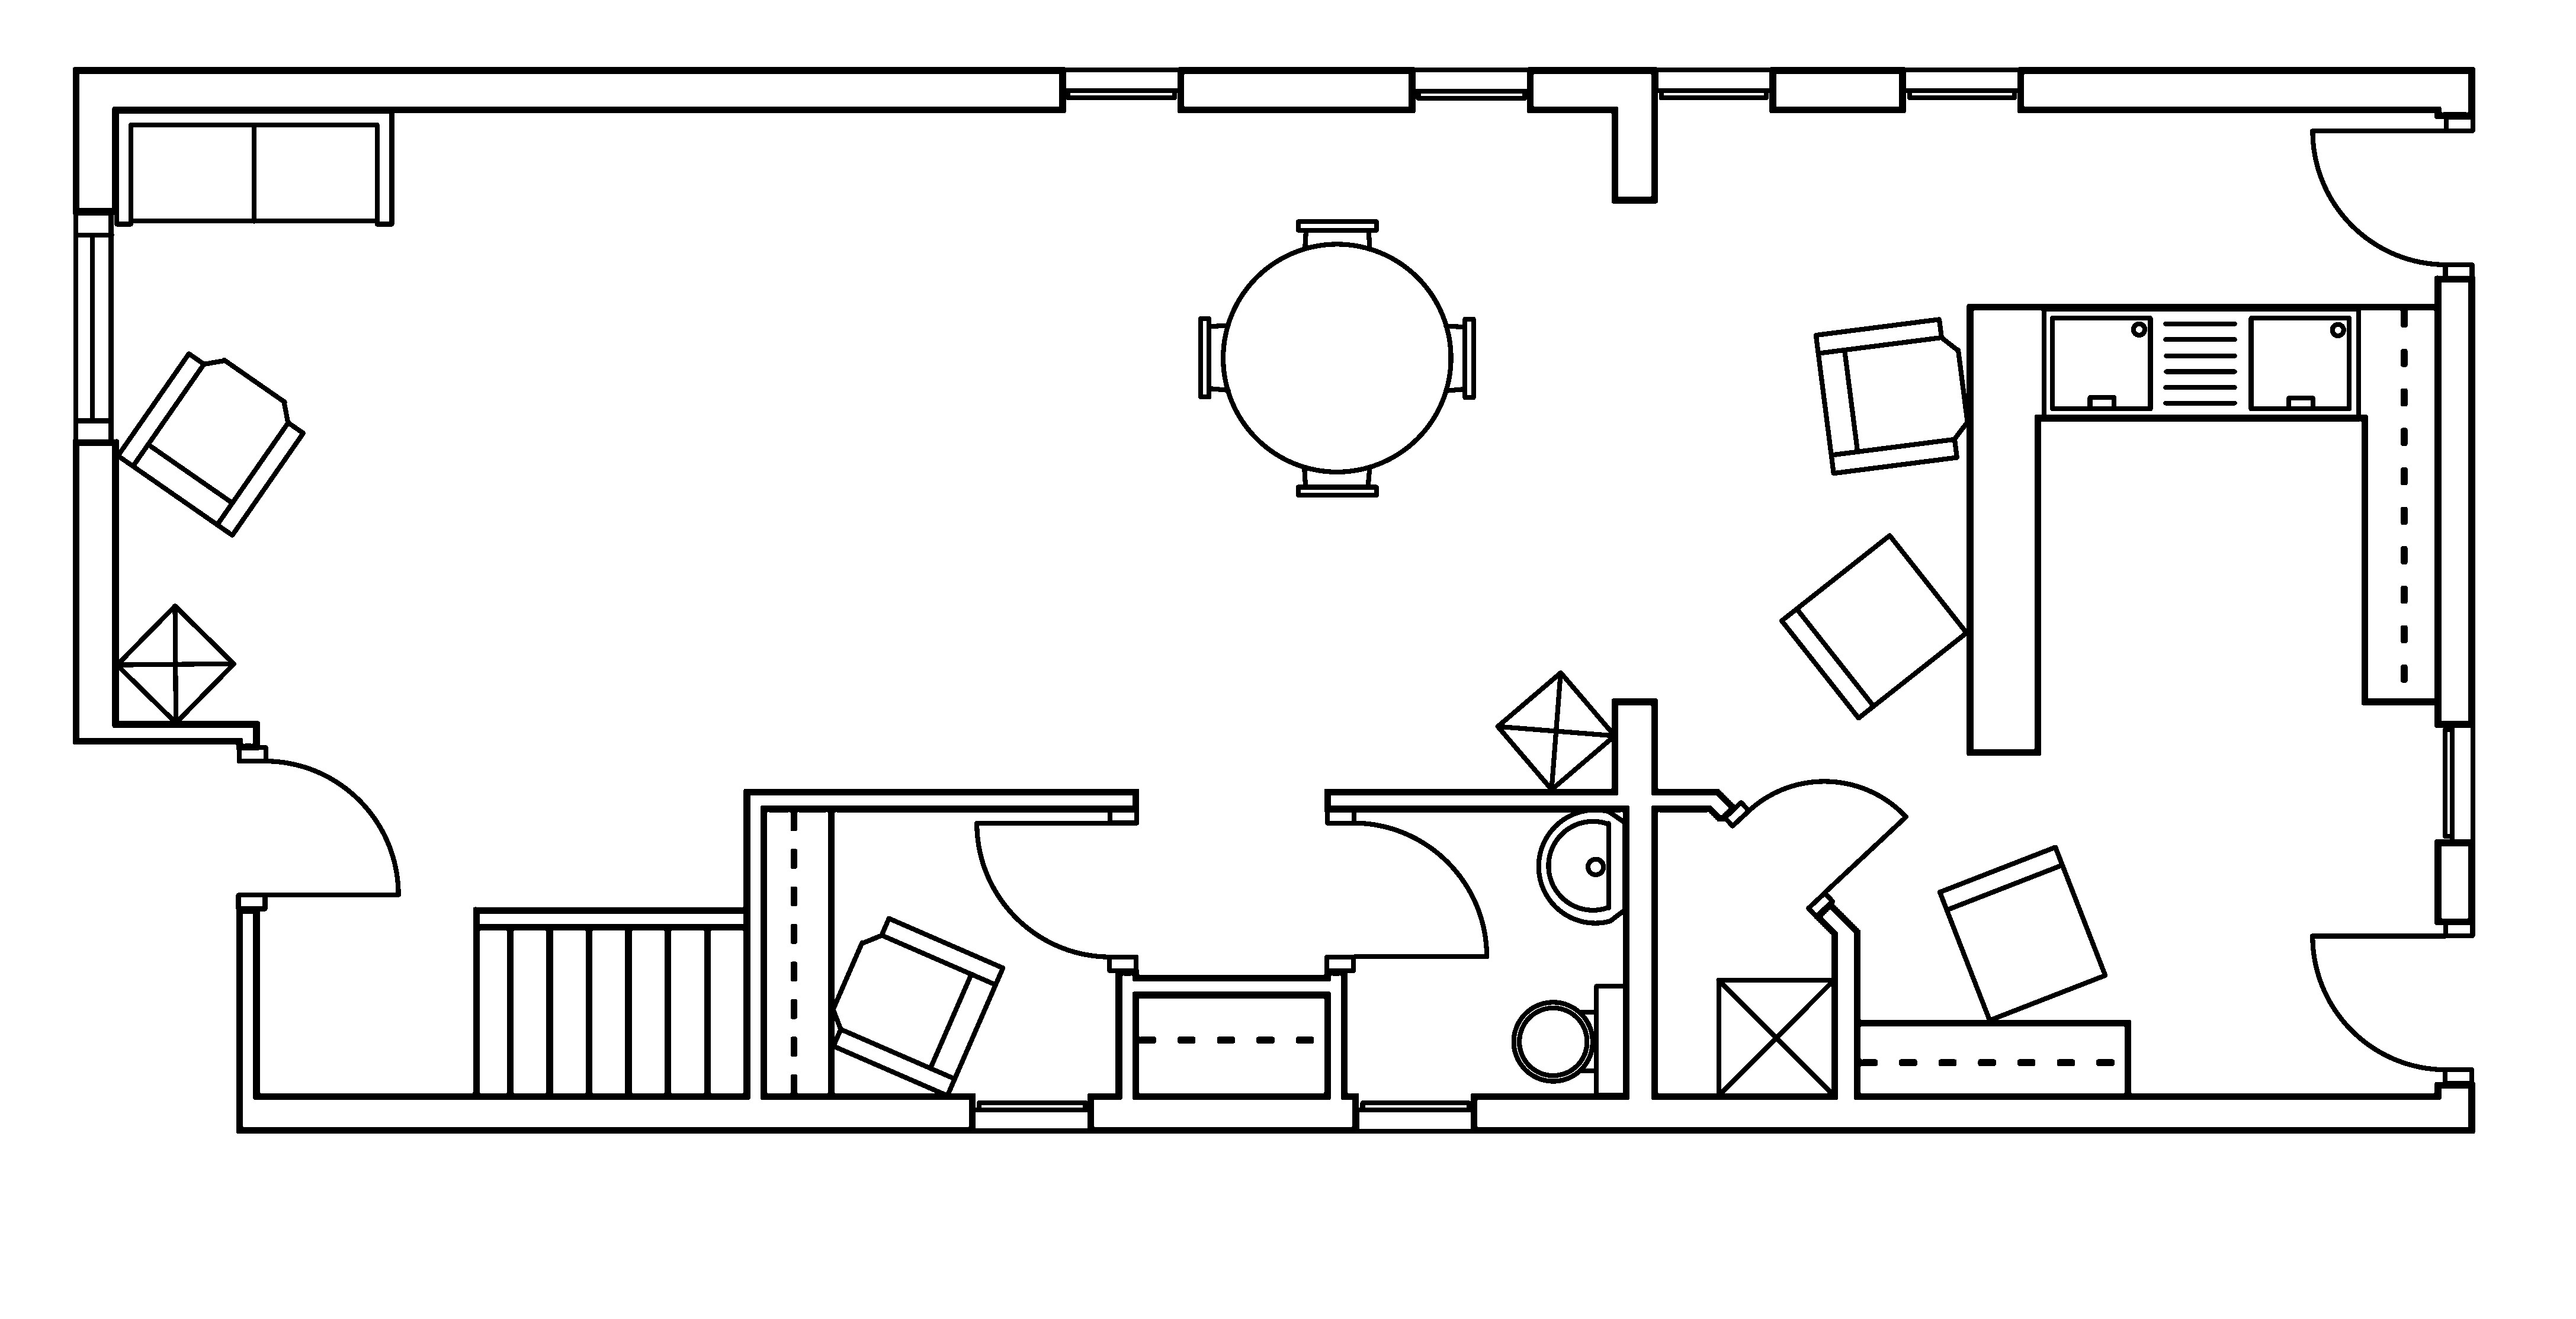armchair: (114, 350, 306, 538), (829, 915, 1006, 1099), (1813, 316, 1971, 476)
coffee_table: (113, 602, 237, 725), (1493, 670, 1618, 792), (1715, 976, 1836, 1099)
large_sink: (1512, 983, 1628, 1097)
large_sofa: (113, 108, 395, 227)
round_table: (1197, 219, 1476, 498)
small_sink: (1535, 808, 1628, 925)
small_sofa: (1777, 532, 1969, 720), (1937, 843, 2107, 1023)
twin_sink: (2040, 305, 2361, 421)
